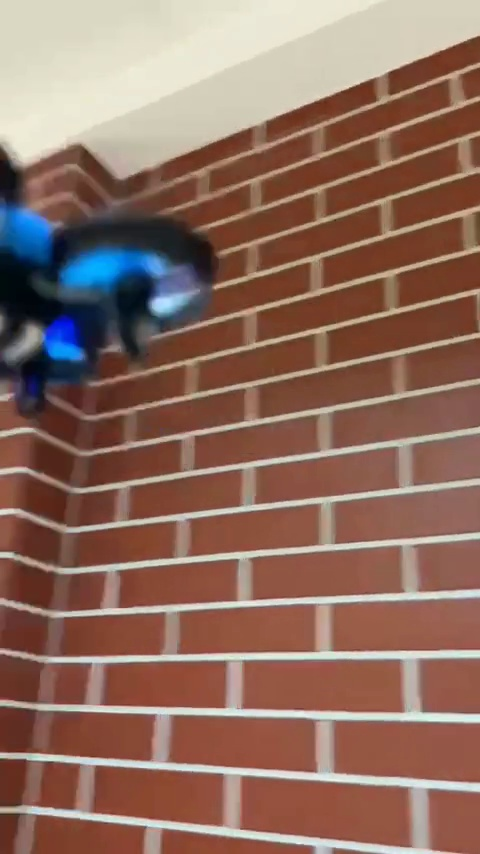drone: (0, 137, 216, 418)
